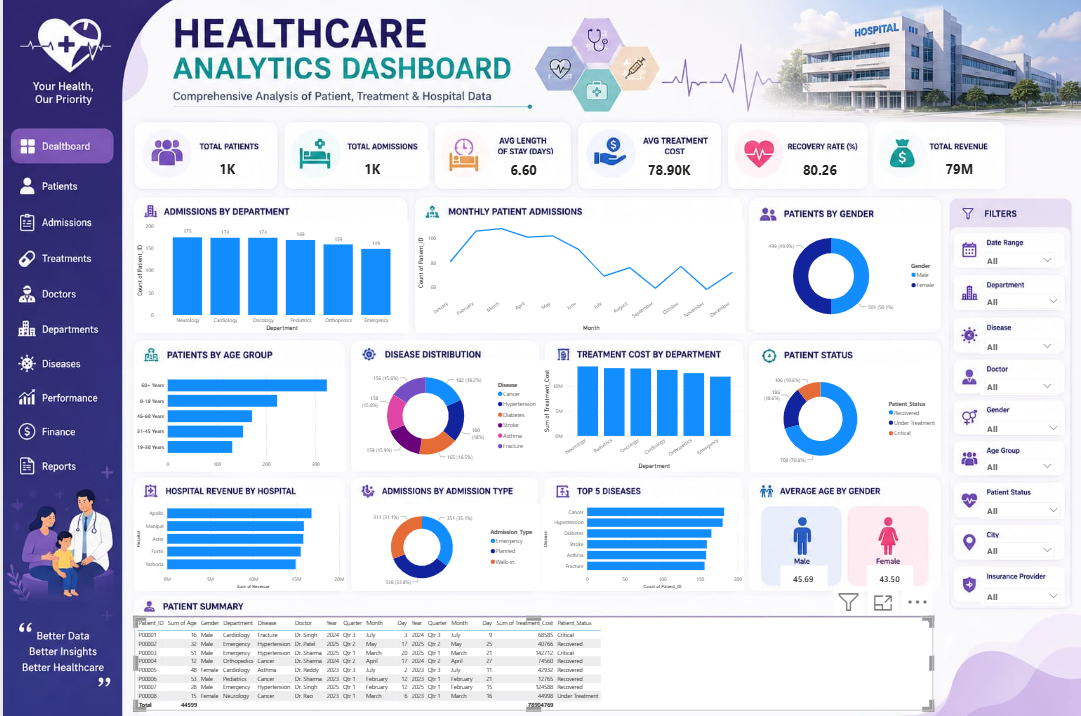

What the dashboard file says about the page in this screenshot:
{"tool":"powerbi","page":{"name":"Page 1","canvas":[2600,1800],"ordinal":0},"visuals":[{"type":"cardVisual","fields":{"Data":["Healthcare_Data.Total patients"]},"box":[491.6,392.1,126.7,81.4],"z":0},{"type":"cardVisual","fields":{"Data":["Healthcare_Data.Total Admissions"]},"box":[841.5,392.1,187,81.4],"z":1000},{"type":"cardVisual","fields":{"Data":["Healthcare_Data.Average length of stay"]},"box":[1194.4,401.1,135.7,72.4],"z":2000},{"type":"cardVisual","fields":{"Data":["Healthcare_Data.average treatment cost"]},"box":[1526.1,401.1,171.9,72.4],"z":3000},{"type":"cardVisual","fields":{"Data":["Avg(Healthcare_Data.Recovery_Rate)"]},"box":[1900.1,401.1,147.8,72.4],"z":4000},{"type":"cardVisual","fields":{"Data":["Sum(Healthcare_Data.Revenue)"]},"box":[2244,392.1,132.7,81.4],"z":5000},{"type":"clusteredColumnChart","fields":{"Y":["Count(Healthcare_Data.Patient_ID)"],"Category":["Healthcare_Data.Department"]},"box":[316,562,662,272],"z":6000},{"type":"lineChart","fields":{"Category":["Healthcare_Data.Admission_Date.Variation.Date Hierarchy.Month"],"Y":["CountNonNull(Healthcare_Data.Patient_ID)"]},"box":[994,562,794,272],"z":7000},{"type":"donutChart","fields":{"Category":["Healthcare_Data.Gender"],"Y":["CountNonNull(Healthcare_Data.Patient_ID)"]},"box":[1800.6,567,461.5,256.4],"z":8000},{"type":"clusteredBarChart","fields":{"Category":["Healthcare_Data.Age group"],"Y":["CountNonNull(Healthcare_Data.Patient_ID)"]},"box":[316,918,512,250],"z":9000},{"type":"donutChart","fields":{"Category":["Healthcare_Data.Disease"],"Y":["CountNonNull(Healthcare_Data.Patient_ID)"]},"box":[842,900,458,268],"z":10000},{"type":"clusteredColumnChart","fields":{"Category":["Healthcare_Data.Department"],"Y":["Sum(Healthcare_Data.Treatment_Cost)"]},"box":[1300,900,488,268],"z":11000},{"type":"donutChart","fields":{"Category":["Healthcare_Data.Patient_Status"],"Y":["CountNonNull(Healthcare_Data.Patient_ID)"]},"box":[1804,910,460,258],"z":12000},{"type":"clusteredBarChart","fields":{"Category":["Healthcare_Data.Hospital"],"Y":["Sum(Healthcare_Data.Revenue)"]},"box":[316,1230,512,224],"z":13000},{"type":"donutChart","fields":{"Category":["Healthcare_Data.Admission_Type"],"Y":["CountNonNull(Healthcare_Data.Patient_ID)"]},"box":[842,1246,456,208],"z":14000},{"type":"clusteredBarChart","fields":{"Category":["Healthcare_Data.Disease"],"Y":["CountNonNull(Healthcare_Data.Patient_ID)"]},"box":[1300,1230,488,224],"z":15000},{"type":"cardVisual","fields":{"Data":["Healthcare_Data.Average age(Male)"]},"box":[1876.7,1393.3,113.3,60],"z":16000},{"type":"cardVisual","fields":{"Data":["Healthcare_Data.Average age(Female)"]},"box":[2085,1393.3,111.7,61.7],"z":17000},{"type":"tableEx","fields":{"Values":["Healthcare_Data.Patient_ID","Sum(Healthcare_Data.Age)","Healthcare_Data.Gender","Healthcare_Data.Department","Healthcare_Data.Disease","Healthcare_Data.Doctor","Healthcare_Data.Admission_Date.Variation.Date Hierarchy.Year","Healthcare_Data.Admission_Date.Variation.Date Hierarchy.Quarter","Healthcare_Data.Admission_Date.Variation.Date Hierarchy.Month","Healthcare_Data.Admission_Date.Variation.Date Hierarchy.Day","Healthcare_Data.Discharge_Date.Variation.Date Hierarchy.Year","Healthcare_Data.Discharge_Date.Variation.Date Hierarchy.Quarter"]},"box":[316,1516,1928,228],"z":18000},{"type":"slicer","fields":{"Values":["Healthcare_Data.Admission_Date"]},"box":[2358,628,188,48],"z":19000},{"type":"slicer","fields":{"Values":["Healthcare_Data.Department"]},"box":[2358,728,202,50],"z":20000},{"type":"slicer","fields":{"Values":["Healthcare_Data.Disease"]},"box":[2358,834,188,48],"z":21000},{"type":"slicer","fields":{"Values":["Healthcare_Data.Doctor"]},"box":[2358,932,188,50],"z":22000},{"type":"slicer","fields":{"Values":["Healthcare_Data.Gender"]},"box":[2358,1034,202,44],"z":23000},{"type":"slicer","fields":{"Values":["Healthcare_Data.Age group"]},"box":[2358,1126,188,42],"z":24000},{"type":"slicer","fields":{"Values":["Healthcare_Data.Patient_Status"]},"box":[2358,1230,202,50],"z":25000},{"type":"slicer","fields":{"Values":["Healthcare_Data.City"]},"box":[2358,1328,188,52],"z":26000},{"type":"slicer","fields":{"Values":["Healthcare_Data.Insurance_Provider"]},"box":[2358,1440,202,50],"z":27000}]}

Visuals, with their boxes on the page's 2600x1800 design canvas (x1, y1, x2, y2). These are canvas units, not pixel positions in the 1081x716 screenshot, which may show the page scaled, cropped or inside an application window:
cardVisual - Healthcare_Data.Total patients: x1=492, y1=392, x2=618, y2=474
cardVisual - Healthcare_Data.Total Admissions: x1=842, y1=392, x2=1028, y2=474
cardVisual - Healthcare_Data.Average length of stay: x1=1194, y1=401, x2=1330, y2=474
cardVisual - Healthcare_Data.average treatment cost: x1=1526, y1=401, x2=1698, y2=474
cardVisual - Avg(Healthcare_Data.Recovery_Rate): x1=1900, y1=401, x2=2048, y2=474
cardVisual - Sum(Healthcare_Data.Revenue): x1=2244, y1=392, x2=2377, y2=474
clusteredColumnChart - Count(Healthcare_Data.Patient_ID) x Healthcare_Data.Department: x1=316, y1=562, x2=978, y2=834
lineChart - Healthcare_Data.Admission_Date.Variation.Date Hierarchy.Month x CountNonNull(Healthcare_Data.Patient_ID): x1=994, y1=562, x2=1788, y2=834
donutChart - Healthcare_Data.Gender x CountNonNull(Healthcare_Data.Patient_ID): x1=1801, y1=567, x2=2262, y2=823
clusteredBarChart - Healthcare_Data.Age group x CountNonNull(Healthcare_Data.Patient_ID): x1=316, y1=918, x2=828, y2=1168
donutChart - Healthcare_Data.Disease x CountNonNull(Healthcare_Data.Patient_ID): x1=842, y1=900, x2=1300, y2=1168
clusteredColumnChart - Healthcare_Data.Department x Sum(Healthcare_Data.Treatment_Cost): x1=1300, y1=900, x2=1788, y2=1168
donutChart - Healthcare_Data.Patient_Status x CountNonNull(Healthcare_Data.Patient_ID): x1=1804, y1=910, x2=2264, y2=1168
clusteredBarChart - Healthcare_Data.Hospital x Sum(Healthcare_Data.Revenue): x1=316, y1=1230, x2=828, y2=1454
donutChart - Healthcare_Data.Admission_Type x CountNonNull(Healthcare_Data.Patient_ID): x1=842, y1=1246, x2=1298, y2=1454
clusteredBarChart - Healthcare_Data.Disease x CountNonNull(Healthcare_Data.Patient_ID): x1=1300, y1=1230, x2=1788, y2=1454
cardVisual - Healthcare_Data.Average age(Male): x1=1877, y1=1393, x2=1990, y2=1453
cardVisual - Healthcare_Data.Average age(Female): x1=2085, y1=1393, x2=2197, y2=1455
tableEx - Healthcare_Data.Patient_ID x Sum(Healthcare_Data.Age): x1=316, y1=1516, x2=2244, y2=1744
slicer - Healthcare_Data.Admission_Date: x1=2358, y1=628, x2=2546, y2=676
slicer - Healthcare_Data.Department: x1=2358, y1=728, x2=2560, y2=778
slicer - Healthcare_Data.Disease: x1=2358, y1=834, x2=2546, y2=882
slicer - Healthcare_Data.Doctor: x1=2358, y1=932, x2=2546, y2=982
slicer - Healthcare_Data.Gender: x1=2358, y1=1034, x2=2560, y2=1078
slicer - Healthcare_Data.Age group: x1=2358, y1=1126, x2=2546, y2=1168
slicer - Healthcare_Data.Patient_Status: x1=2358, y1=1230, x2=2560, y2=1280
slicer - Healthcare_Data.City: x1=2358, y1=1328, x2=2546, y2=1380
slicer - Healthcare_Data.Insurance_Provider: x1=2358, y1=1440, x2=2560, y2=1490
